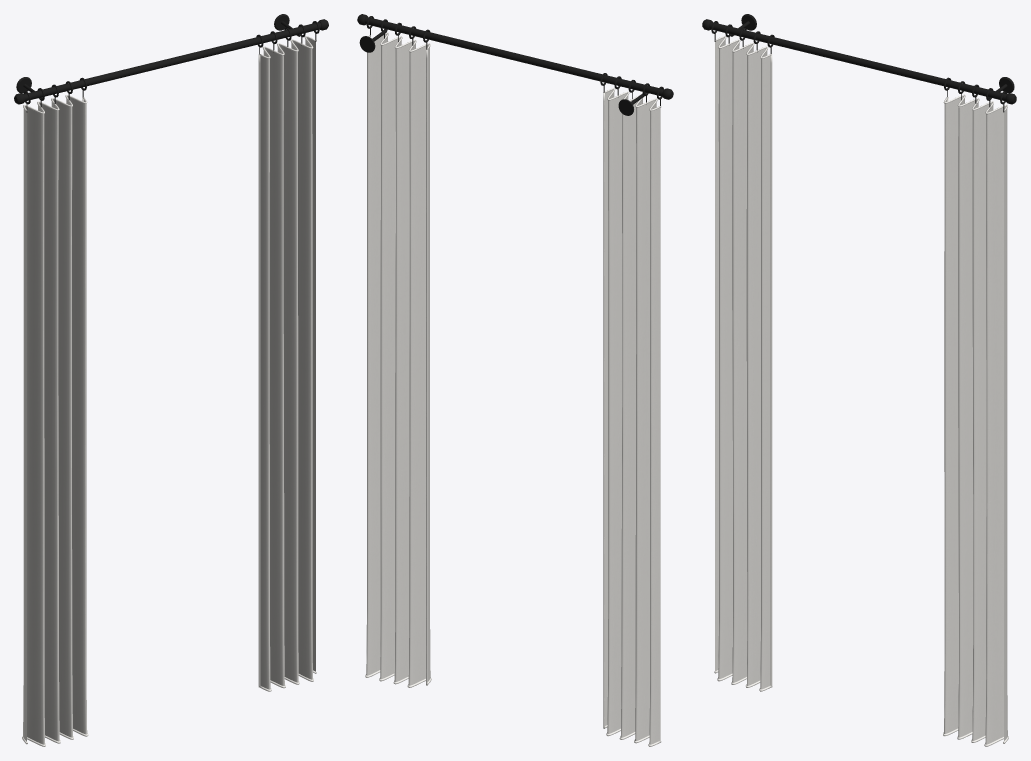
The model's file is cortina_onda_120_c40.glb.
3 renders of one model, left to right at view 1: azimuth 30°, elevation 25°; view 2: azimuth 150°, elevation 25°; view 3: azimuth 330°, elevation 25°, orthographic.
Visible parts, largest first — view 1: cortina_onda_120_c40; view 2: cortina_onda_120_c40; view 3: cortina_onda_120_c40.
Part boxes in pixels (<box>): cortina_onda_120_c40: <box>14,14,328,746</box>; cortina_onda_120_c40: <box>357,14,673,746</box>; cortina_onda_120_c40: <box>702,14,1016,746</box>.
Size of the model in its own units: 1.2 by 2.39 by 0.1789.
Materials: 2 (1 with a texture image).
